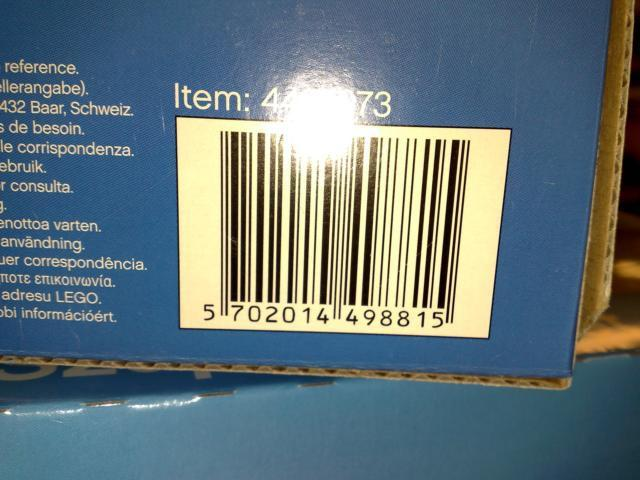Barcode: (177, 119, 512, 338)
